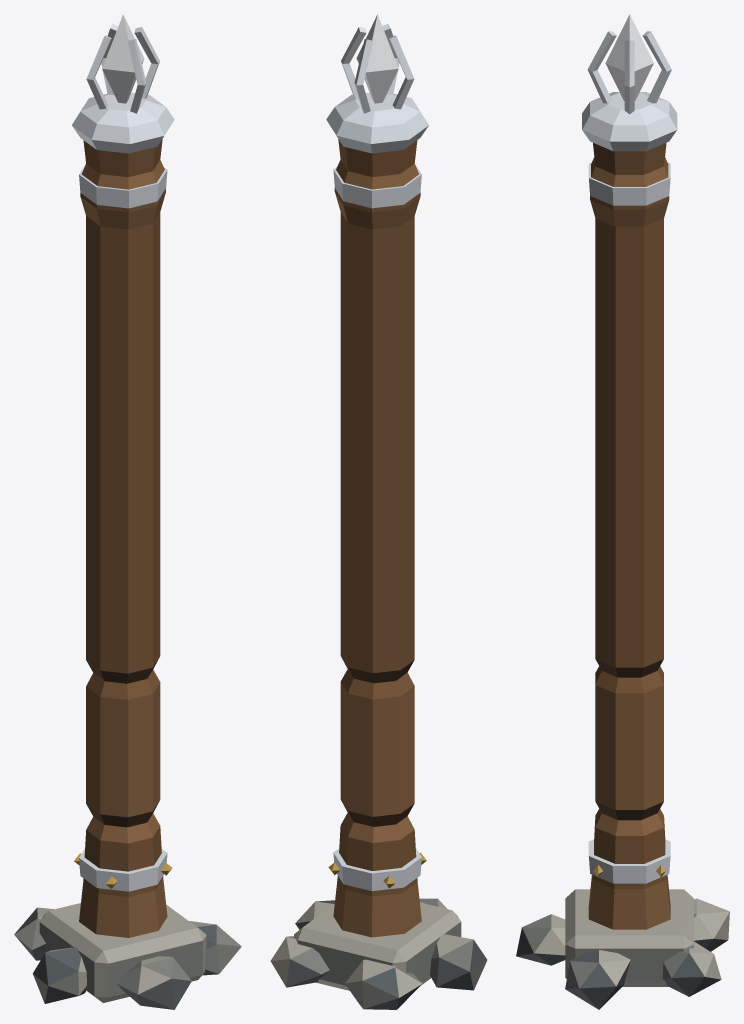
The model's file is SignpostFrame.obj.
3 views of the same model, side by side, from view 1: azimuth 30°, elevation 25°; view 2: azimuth 150°, elevation 25°; view 3: azimuth 270°, elevation 25° (orthographic).
Size of the model in its own units: 1.49 by 7.37 by 1.5.
